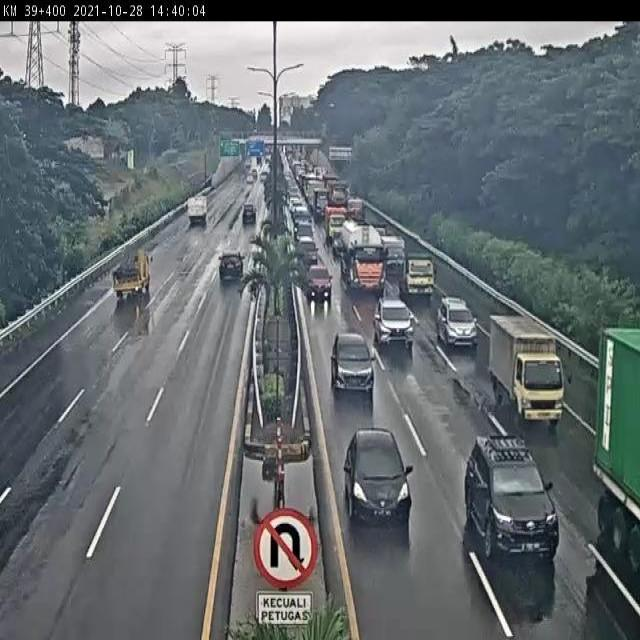big truck: (339, 217, 381, 288)
car: (465, 437, 560, 560), (342, 429, 411, 523), (331, 334, 375, 389), (374, 299, 416, 344), (435, 299, 474, 344), (306, 261, 332, 299), (217, 252, 246, 277)
mid truck: (240, 204, 257, 224)
small truck: (488, 317, 569, 427), (112, 249, 150, 300), (401, 249, 437, 296), (380, 233, 405, 275)
